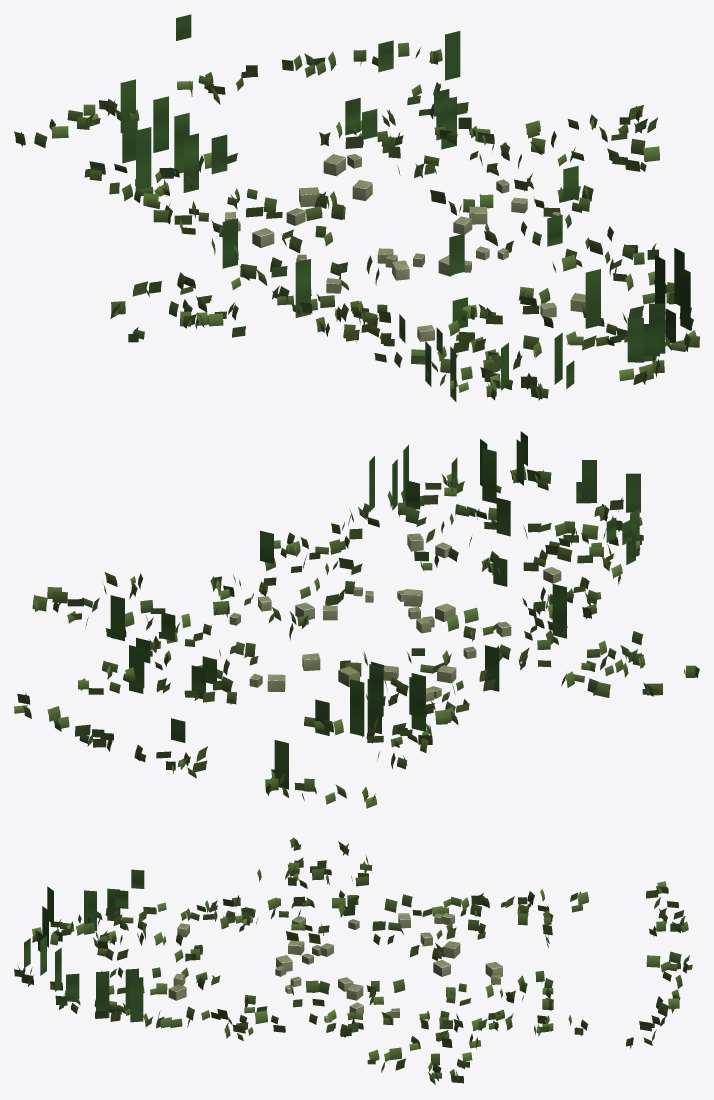
Rendered from hollow_crypt_entrance_growth.glb.
3 views of the same model, one above another, from view 1: azimuth 30°, elevation 25°; view 2: azimuth 150°, elevation 25°; view 3: azimuth 270°, elevation 25° (orthographic). The views are drawn at different scales.
Parts seen in each view (by area): view 1: Entrance_Growth; view 2: Entrance_Growth; view 3: Entrance_Growth.
Boxes of the visible parts, x1,y1,x2,y2 form: Entrance_Growth: [14, 14, 699, 402]; Entrance_Growth: [14, 431, 699, 808]; Entrance_Growth: [14, 837, 692, 1084].
Bounding box in the file's own units: 36.1 × 6.02 × 43.51.
